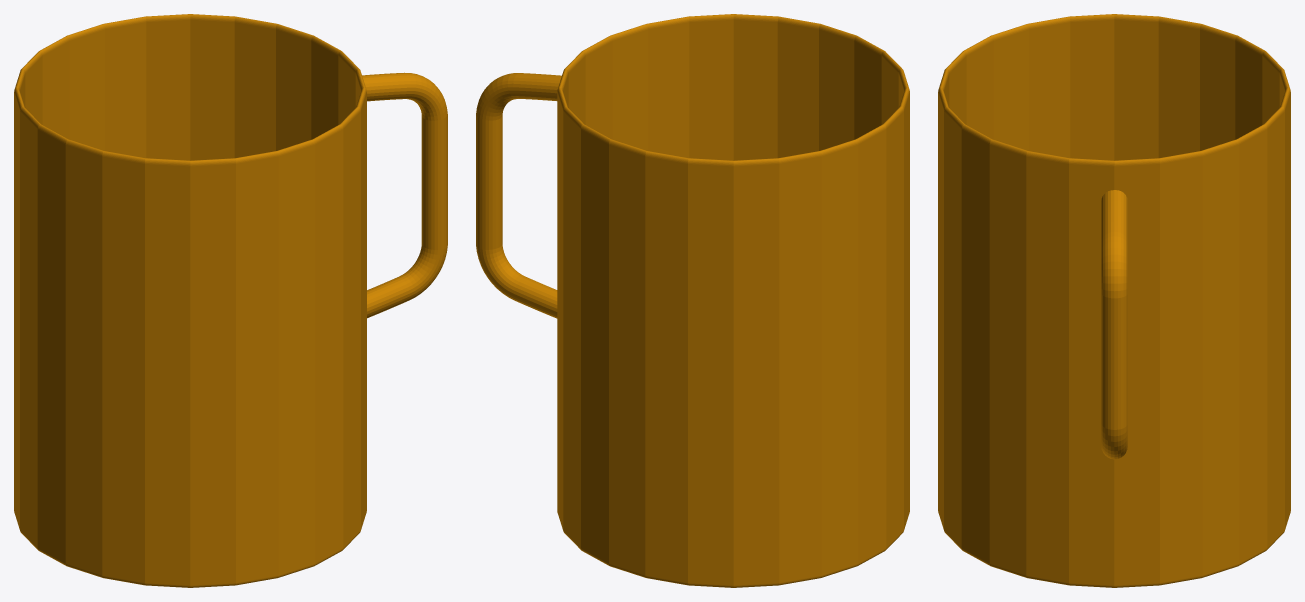
The picture shows the model from 3 angles, left to right: view 1: azimuth 30°, elevation 25°; view 2: azimuth 150°, elevation 25°; view 3: azimuth 270°, elevation 25°; orthographic projection.
Visible parts, largest first — view 1: mesh1_mesh1-geometry, mesh2_mesh2-geometry; view 2: mesh1_mesh1-geometry, mesh2_mesh2-geometry; view 3: mesh1_mesh1-geometry, mesh2_mesh2-geometry.
Part boxes in pixels (x1,y1,x2,y2): mesh1_mesh1-geometry: (14,14,366,587); mesh2_mesh2-geometry: (362,72,447,318); mesh1_mesh1-geometry: (557,14,909,587); mesh2_mesh2-geometry: (476,73,561,318); mesh1_mesh1-geometry: (938,14,1290,587); mesh2_mesh2-geometry: (1101,190,1127,459).
Bounding box in the file's own units: 0.6255 × 0.6244 × 0.4678.
